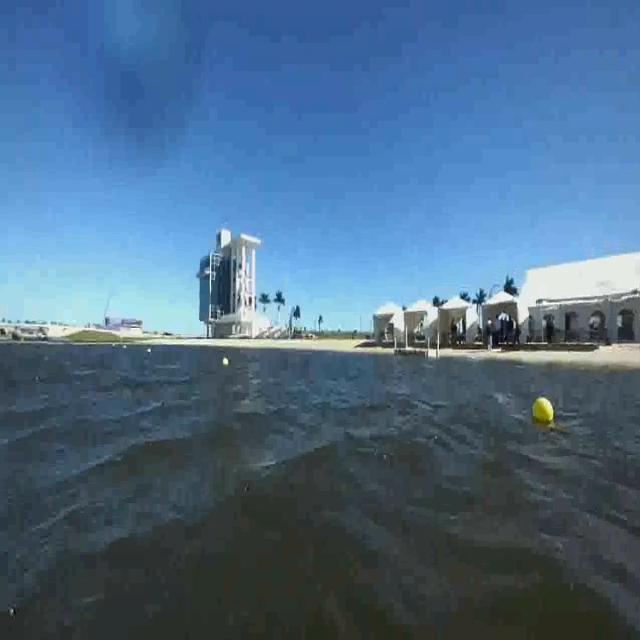yellow-buoy: (534, 400, 558, 427)
